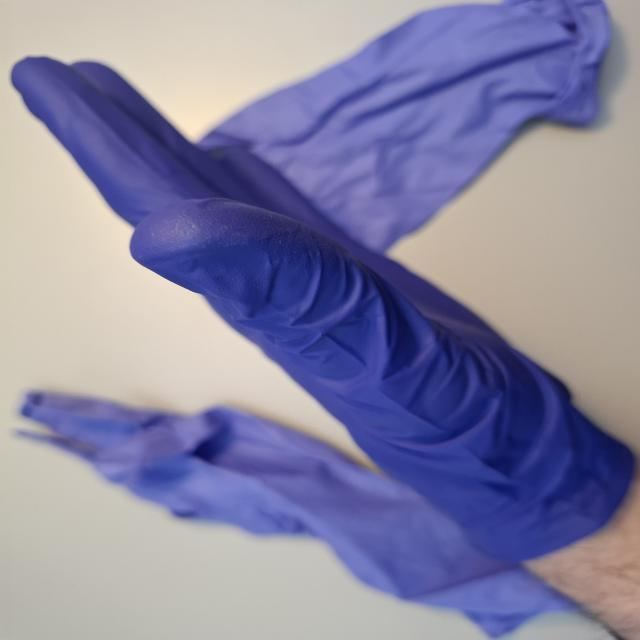glove_on: (8, 49, 640, 574)
